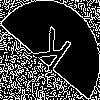K: (25, 25, 74, 82)
